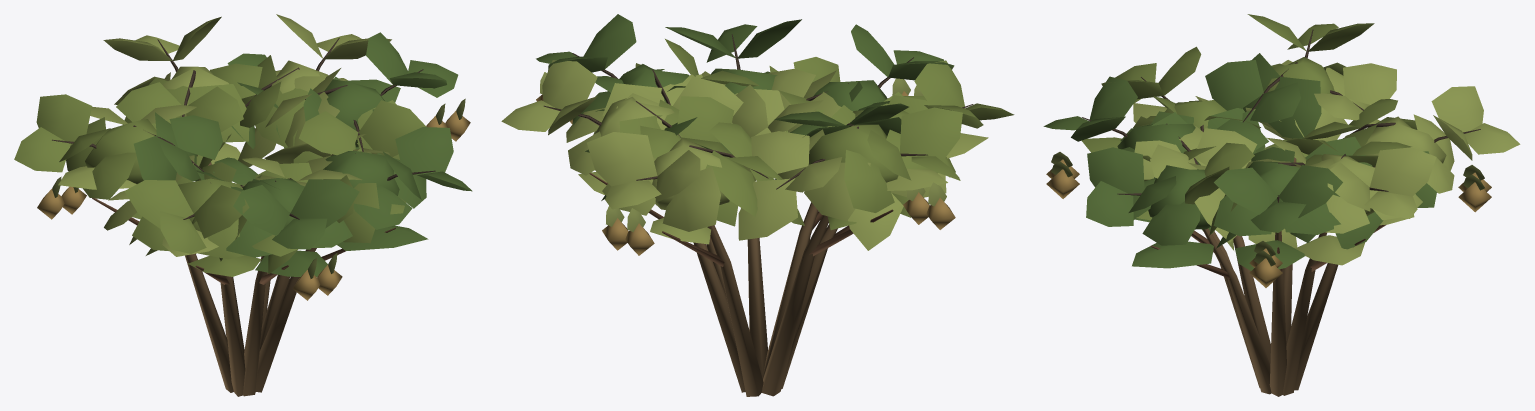
The model's file is woodland_bush_hazel.hi.glb.
3 views of the same model, side by side, from view 1: azimuth 30°, elevation 25°; view 2: azimuth 150°, elevation 25°; view 3: azimuth 270°, elevation 25° (orthographic). The views are drawn at different scales.
Parts seen in each view (by area): view 1: body; view 2: body; view 3: body.
Boxes of the visible parts, x1,y1,x2,y2 form: body: [14, 14, 472, 396]; body: [501, 14, 1014, 396]; body: [1043, 14, 1520, 396].
Bounding box in the file's own units: 1.59 × 1.06 × 1.55.
